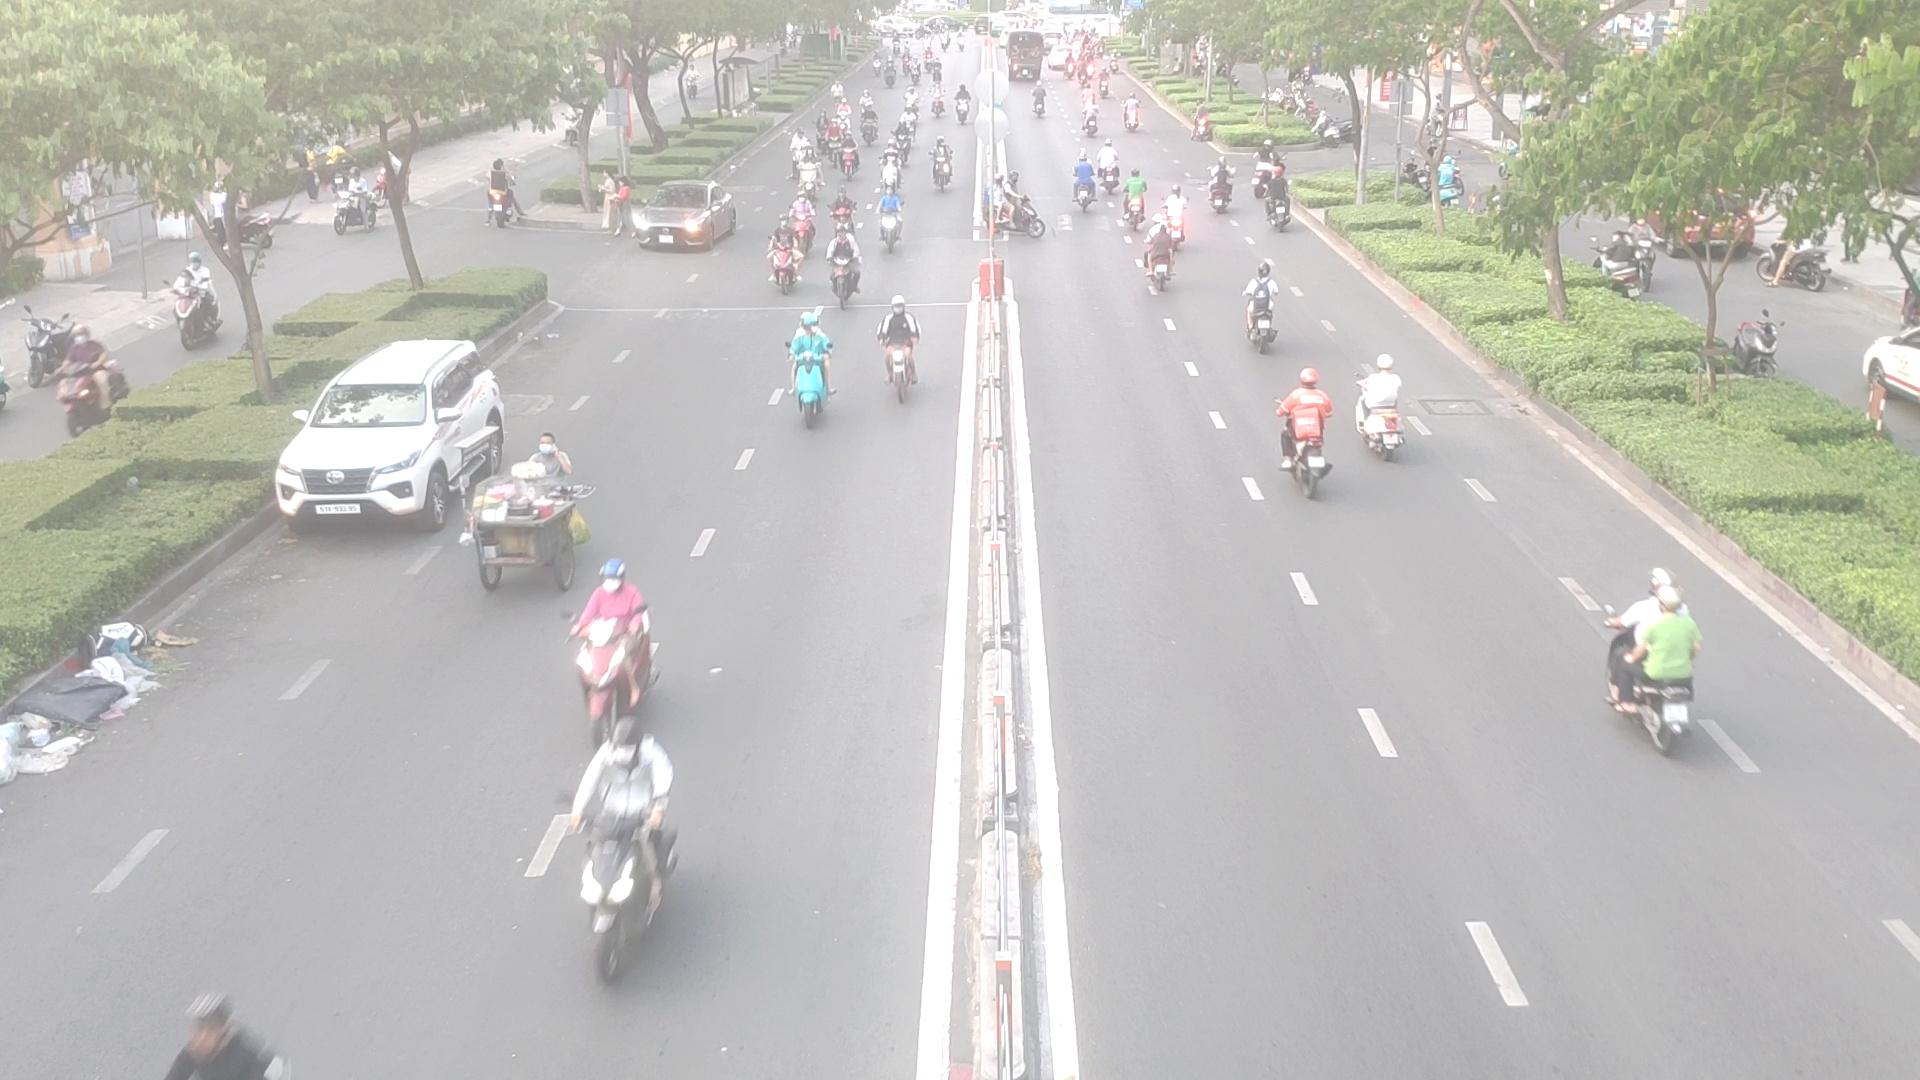car: (276, 348, 524, 535), (618, 193, 753, 255)
motorbike: (563, 727, 679, 1013), (1593, 576, 1712, 760), (566, 560, 673, 750), (1265, 371, 1342, 495), (1349, 363, 1425, 469), (781, 332, 844, 430), (874, 313, 924, 406), (1240, 268, 1292, 353), (760, 224, 803, 293), (777, 204, 822, 262), (825, 243, 866, 306), (868, 196, 909, 256), (1141, 237, 1179, 294), (1065, 162, 1106, 215), (1121, 177, 1154, 228), (928, 149, 957, 195), (835, 138, 862, 177)
